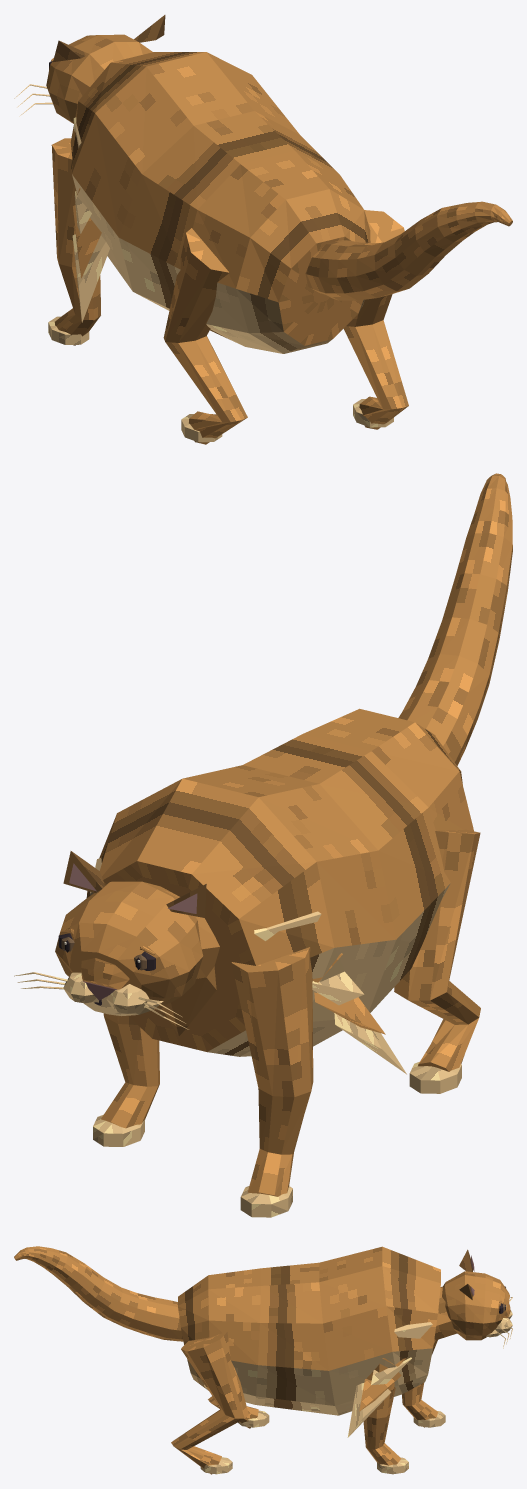
The model's file is mon_cat_chonker.glb.
The picture shows the model from 3 angles, top to bottom: view 1: azimuth 30°, elevation 25°; view 2: azimuth 150°, elevation 25°; view 3: azimuth 270°, elevation 25°; orthographic projection. The views are drawn at different scales.
Visible parts, largest first — view 1: closed_body; view 2: closed_body; view 3: closed_body.
Boxes of the visible parts, x1,y1,x2,y2 form: closed_body: [14, 15, 512, 444]; closed_body: [14, 473, 512, 1217]; closed_body: [14, 1246, 512, 1474].
Size of the model in its own units: 0.3054 by 0.3999 by 0.8241.
1 material, 1 textured.
